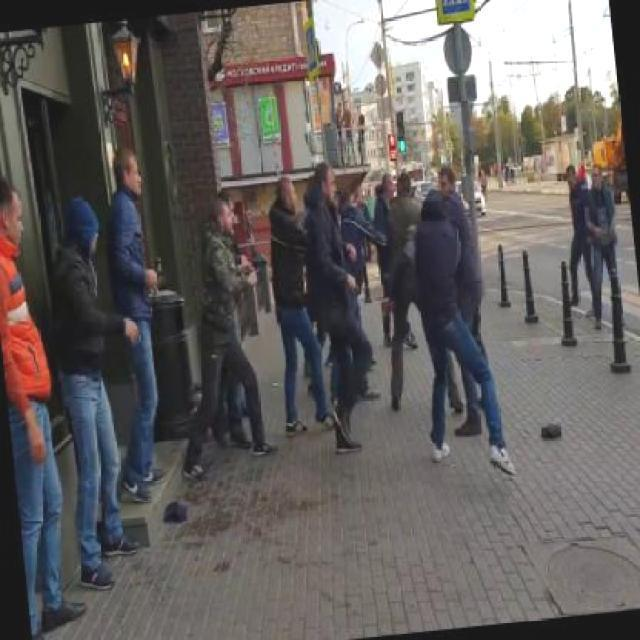fight: (334, 178, 420, 287)
non-fight: (46, 188, 146, 592), (0, 167, 83, 638), (155, 195, 280, 474), (260, 165, 326, 442)
